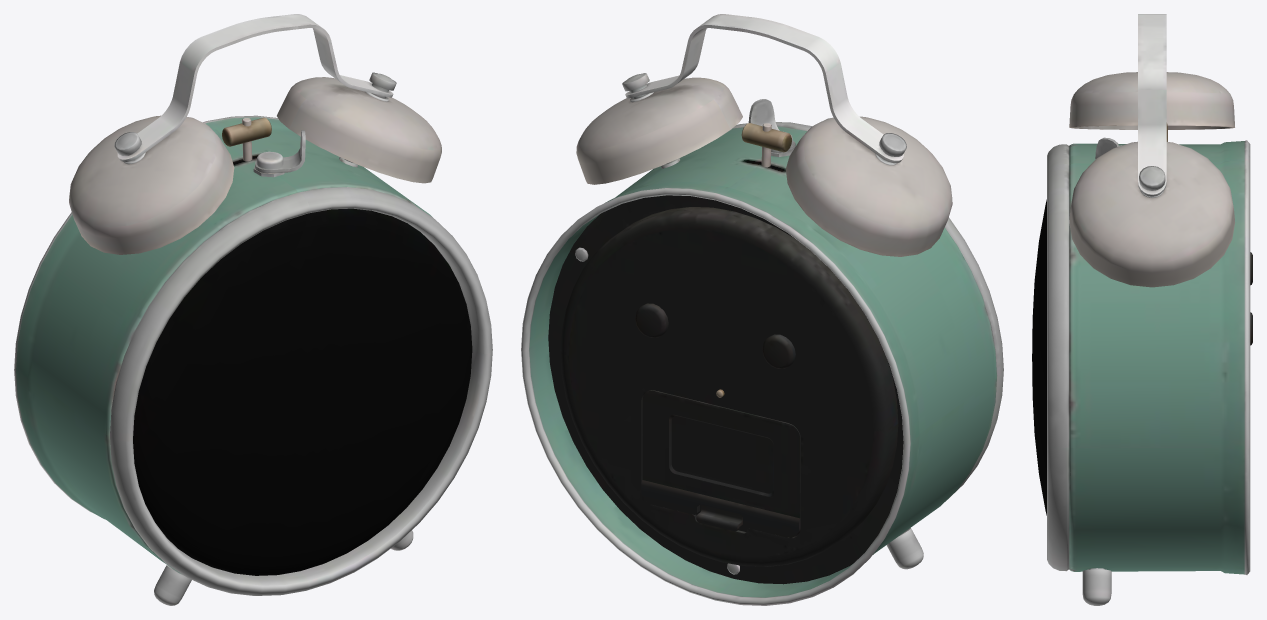
The model's file is alarm_clock_01.glb.
3 renders of one model, left to right at view 1: azimuth 30°, elevation 25°; view 2: azimuth 150°, elevation 25°; view 3: azimuth 270°, elevation 25°, orthographic. The views are drawn at different scales.
Visible parts, largest first — view 1: alarm_clock_01; view 2: alarm_clock_01; view 3: alarm_clock_01.
Part boxes in pixels (left/top/right/bottom): alarm_clock_01: left=14, top=14, right=492, bottom=605; alarm_clock_01: left=521, top=14, right=1003, bottom=605; alarm_clock_01: left=1032, top=14, right=1252, bottom=605.
Bounding box in the file's own units: 0.1317 × 0.1742 × 0.0667.
Materials: 2 (2 with a texture image).
